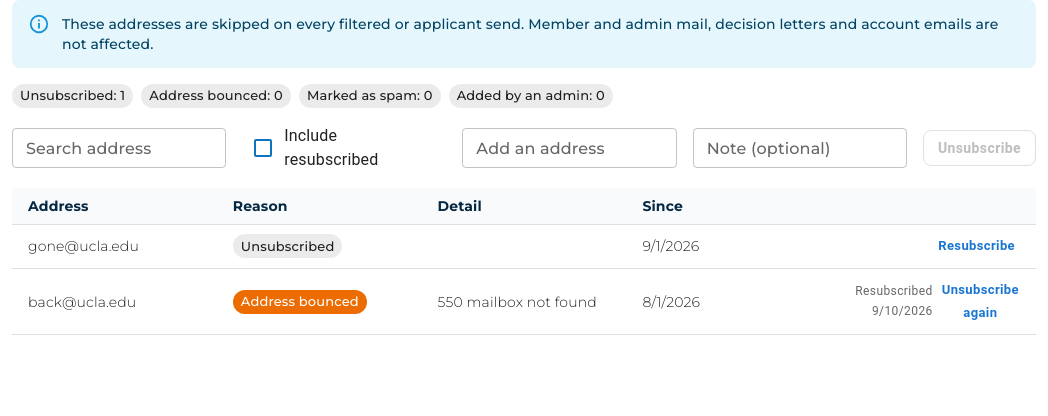
the unsubscribe list › keeps the error on screen when adding fails
Type "x@" into the field labelled "Add an address" at [569, 148], box [462,128,677,168]
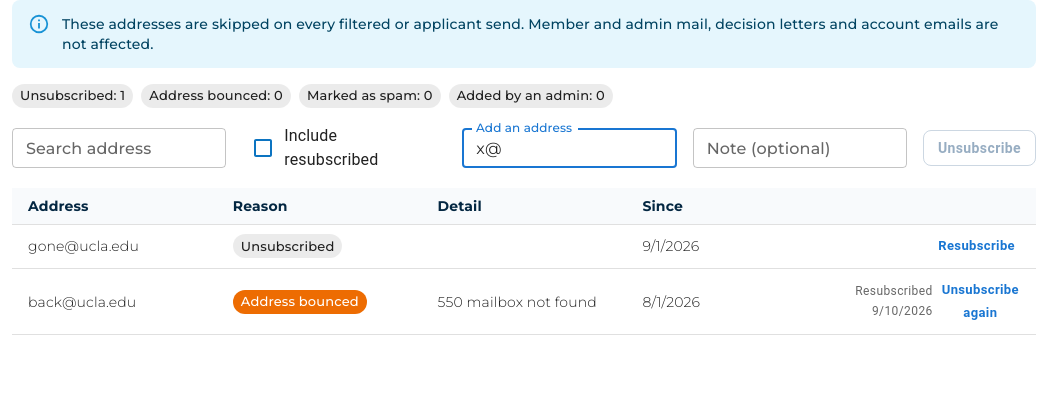
Click the button "Unsubscribe" at [980, 148], box [923,130,1036,166]
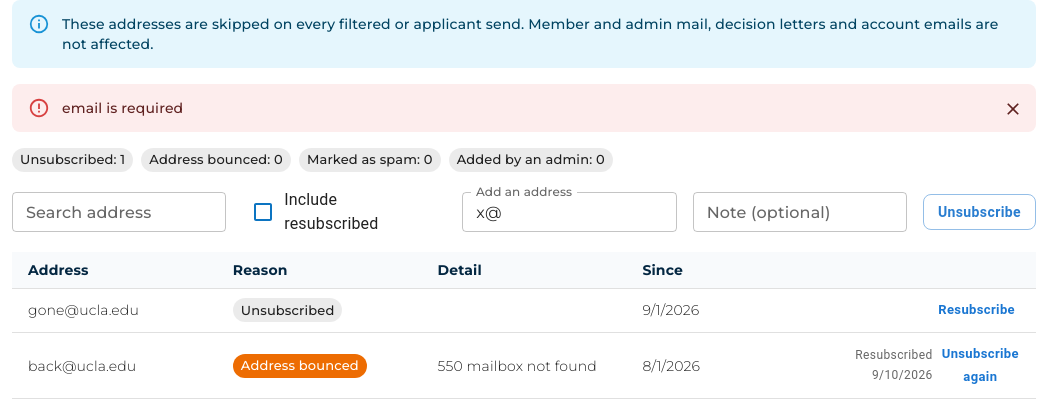
Expected: the text "email is required" is shown, [62,99,183,117]
